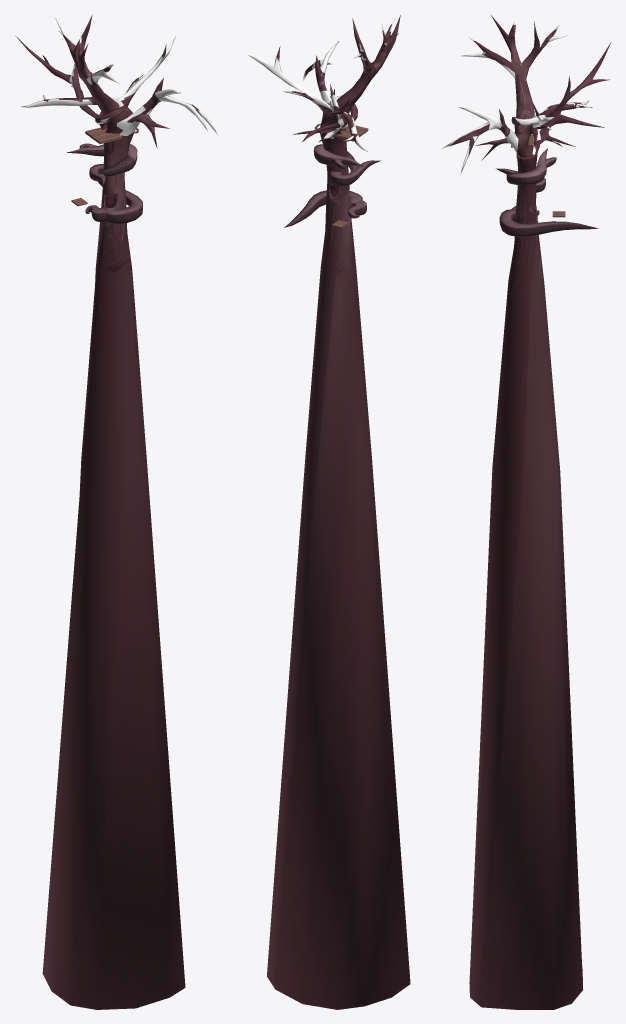
Rendered from NIVEL2_LUCES_arbol.fbx.
3 views of the same model, side by side, from view 1: azimuth 30°, elevation 25°; view 2: azimuth 150°, elevation 25°; view 3: azimuth 270°, elevation 25° (orthographic).
Visible parts, largest first — view 1: rama, rama.004, rama.002, Cube.008; view 2: rama, rama.002, rama.004, rama.003; view 3: rama, rama.002, rama.004.
Boxes of the visible parts, bbox=[...] form: rama: bbox=[15, 14, 218, 1009]; rama.004: bbox=[67, 144, 137, 176]; rama.002: bbox=[97, 181, 142, 223]; Cube.008: bbox=[71, 127, 138, 206]; rama: bbox=[248, 15, 410, 1009]; rama.002: bbox=[284, 190, 362, 227]; rama.004: bbox=[313, 144, 364, 171]; rama.003: bbox=[330, 160, 380, 185]; rama: bbox=[439, 15, 610, 1009]; rama.002: bbox=[499, 209, 598, 236]; rama.004: bbox=[506, 148, 547, 185].
Size of the model in its own units: 2943 by 19777 by 3236.
